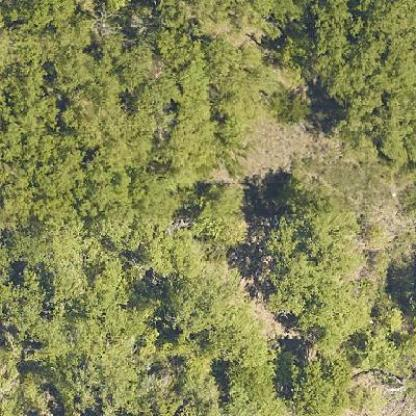tree-top: (285, 344, 356, 414), (189, 180, 256, 254), (32, 124, 87, 200), (127, 166, 187, 218), (211, 79, 261, 141), (85, 247, 134, 310), (48, 44, 97, 92), (42, 254, 88, 301), (150, 25, 198, 69), (267, 84, 314, 124), (131, 74, 178, 113), (176, 354, 212, 393)
